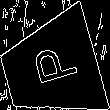P_W: (23, 43, 79, 93)
